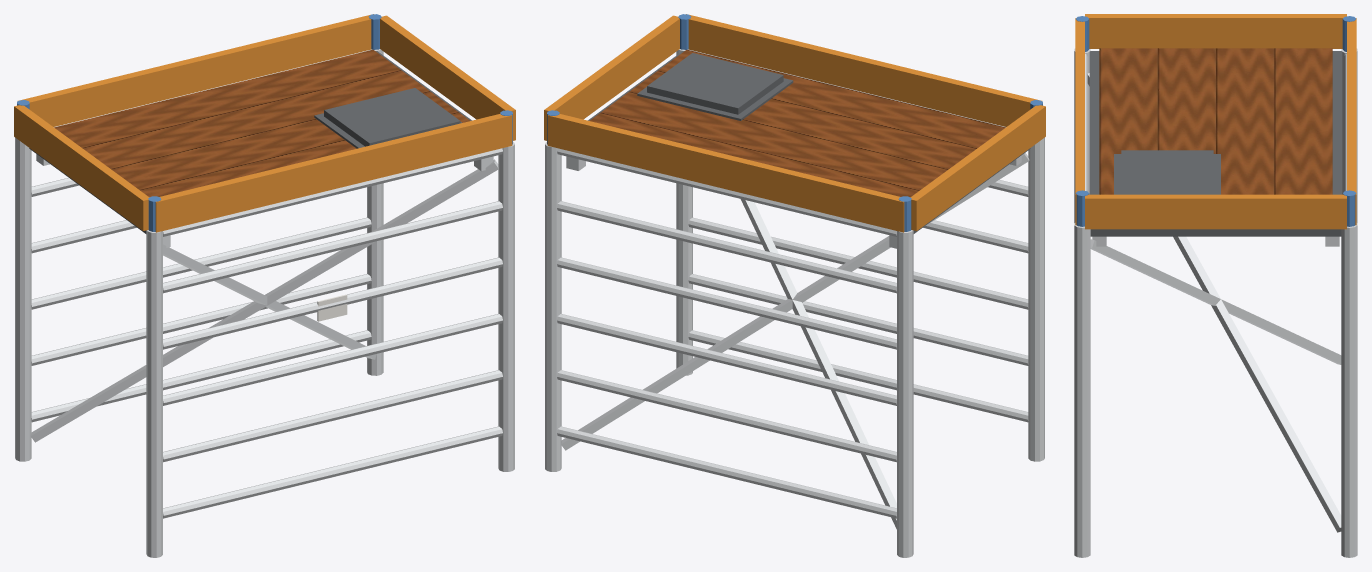
File: tool-hire-depot-and-plant-yard-tool-hire-depot-and-pla-bb7dd131.glb
The picture shows the model from 3 angles, left to right: view 1: azimuth 30°, elevation 25°; view 2: azimuth 150°, elevation 25°; view 3: azimuth 270°, elevation 25°; orthographic projection.
Visible parts, largest first — view 1: tool-hire-depot-and-plant-yard-scaffold-tower-section; view 2: tool-hire-depot-and-plant-yard-scaffold-tower-section; view 3: tool-hire-depot-and-plant-yard-scaffold-tower-section.
Boxes of the visible parts, bbox=[...] form: tool-hire-depot-and-plant-yard-scaffold-tower-section: bbox=[14, 14, 515, 557]; tool-hire-depot-and-plant-yard-scaffold-tower-section: bbox=[544, 14, 1045, 557]; tool-hire-depot-and-plant-yard-scaffold-tower-section: bbox=[1074, 14, 1357, 557].
Size of the model in its own units: 1.8 by 1.64 by 1.17.
6 materials, 1 textured.
